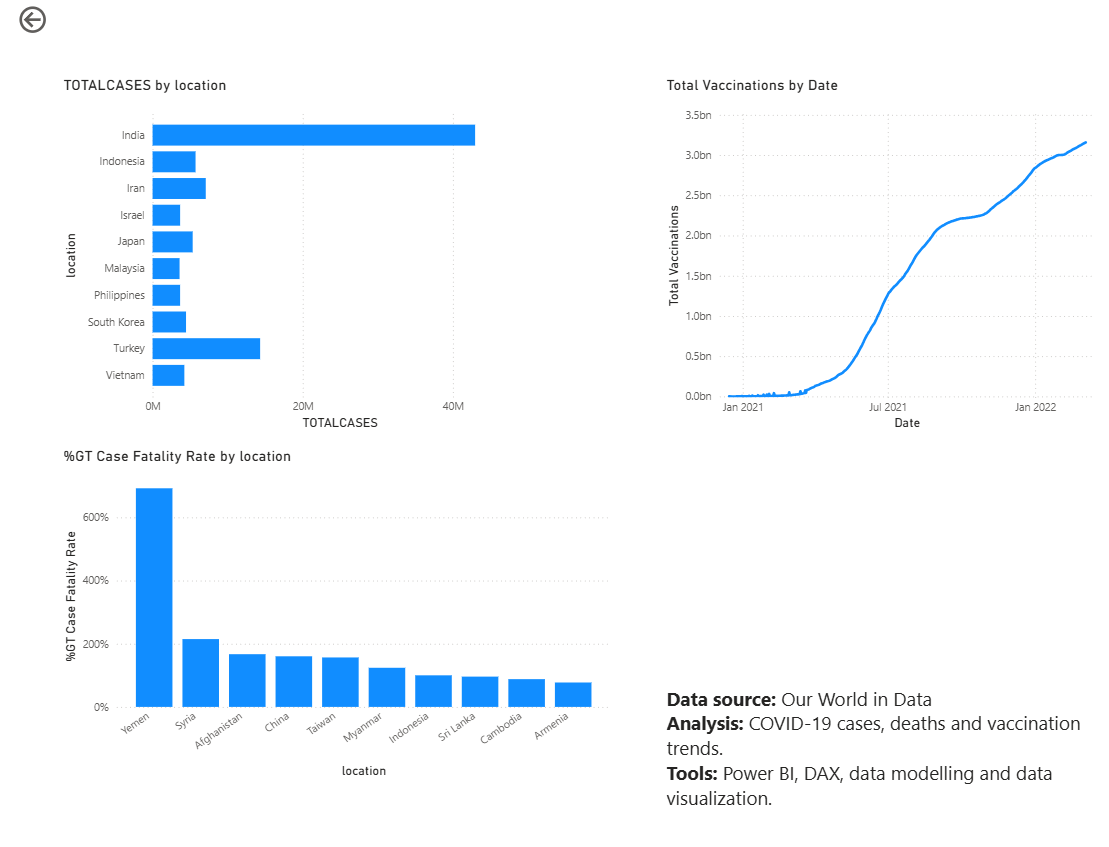

Layout of this report page (visuals, bound fields, positions):
{"tool":"powerbi","page":{"name":"Page 2","canvas":[1280,1000],"ordinal":1},"visuals":[{"type":"clusteredBarChart","fields":{"Category":["owid-covid-data.location"],"Y":["owid-covid-data.TOTALCASES"]},"box":[87.9,94.9,548.2,405.5],"z":0},{"type":"columnChart","fields":{"Category":["owid-covid-data.location"],"Y":["owid-covid-data.Case Fatality Rate"]},"box":[87.9,515.2,630,379.4],"z":1000},{"type":"textbox","box":[771.4,780.5,508.6,219.8],"z":2000},{"type":"actionButton","box":[38.5,11.3,100,40],"z":3000},{"type":"lineChart","fields":{"Y":["owid-covid-data.Total Vaccinations"],"Category":["Date_table.Date"]},"box":[771,95,509,406],"z":4000}]}

Visuals, with their boxes in screenshot pixels (x1, y1, x2, y2), scaled from the page's 1280x1000 canvas onto the 1109x847 screenshot:
clusteredBarChart - owid-covid-data.location x owid-covid-data.TOTALCASES: bbox=[76, 80, 551, 424]
columnChart - owid-covid-data.location x owid-covid-data.Case Fatality Rate: bbox=[76, 436, 622, 758]
textbox: bbox=[668, 661, 1108, 846]
actionButton: bbox=[33, 10, 120, 43]
lineChart - owid-covid-data.Total Vaccinations x Date_table.Date: bbox=[668, 80, 1108, 424]
